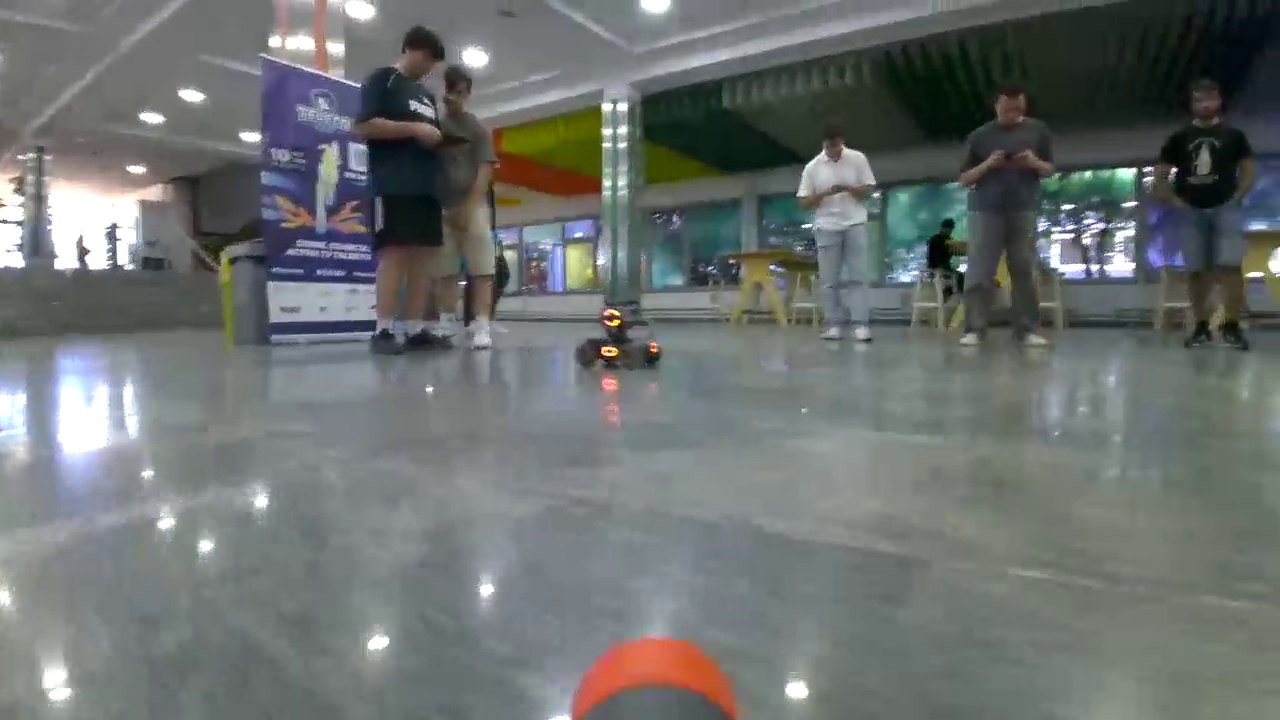robot: (576, 303, 665, 369)
